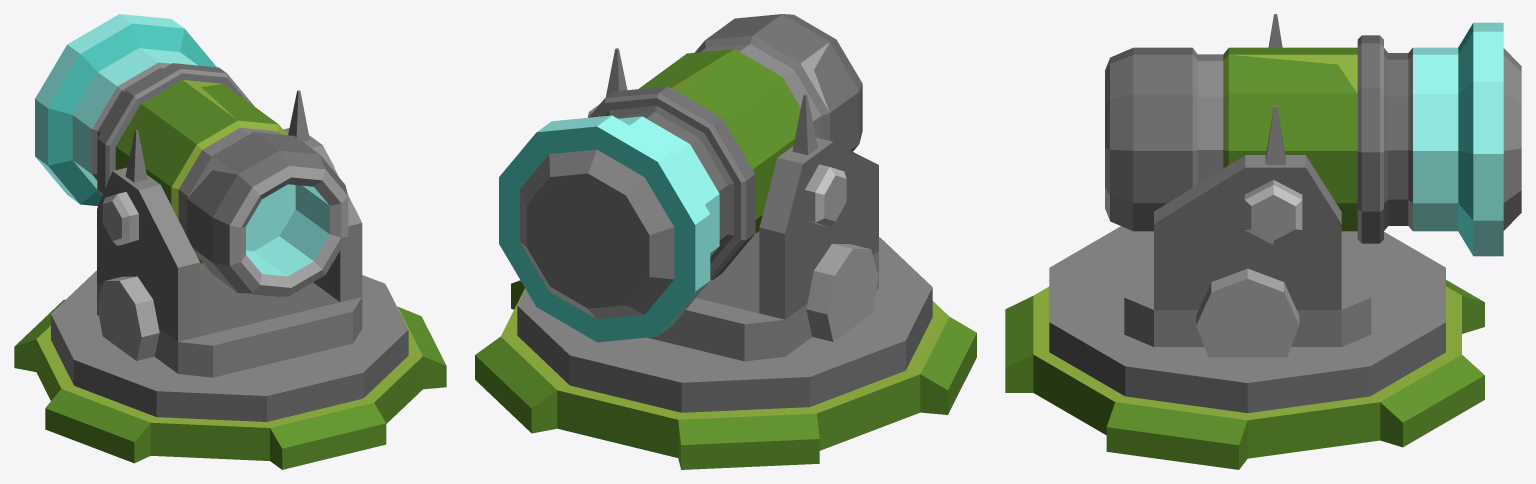
Rendered from tower_plasma_green_2.fbx.
3 views of the same model, side by side, from view 1: azimuth 30°, elevation 25°; view 2: azimuth 150°, elevation 25°; view 3: azimuth 270°, elevation 25° (orthographic). The views are drawn at different scales.
Parts seen in each view (by area): view 1: top_plasma_green_2, tower_plasma_green_2; view 2: top_plasma_green_2, tower_plasma_green_2; view 3: top_plasma_green_2, tower_plasma_green_2.
Part boxes in pixels (x1,y1,x2,y2): top_plasma_green_2: (35, 14, 362, 377); tower_plasma_green_2: (14, 270, 446, 469); top_plasma_green_2: (499, 14, 878, 361); tower_plasma_green_2: (475, 237, 976, 469); top_plasma_green_2: (1105, 14, 1521, 357); tower_plasma_green_2: (1005, 226, 1484, 469).
Bounding box in the file's own units: 159 × 115 × 162.
